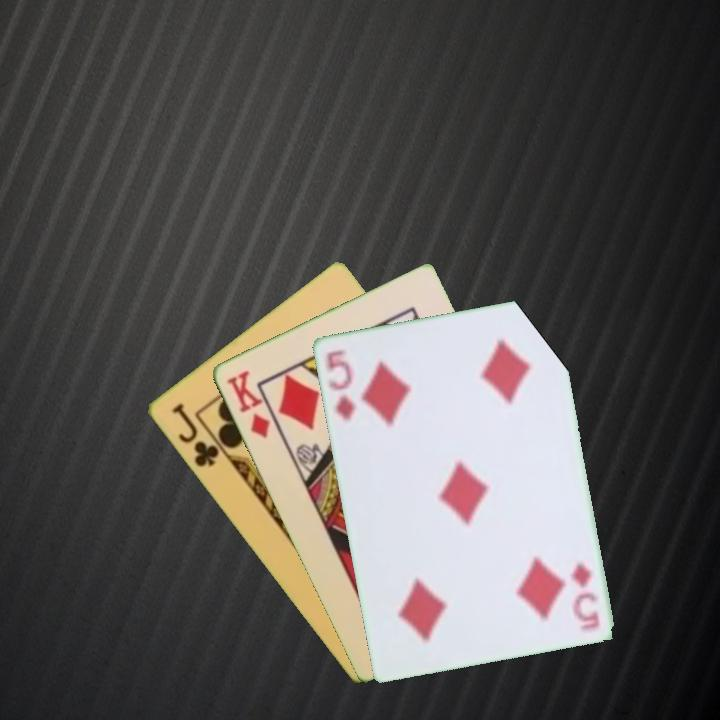5d: (322, 346, 358, 423), (566, 559, 602, 632)
Jc: (168, 399, 222, 470)
Kd: (222, 366, 272, 441)
